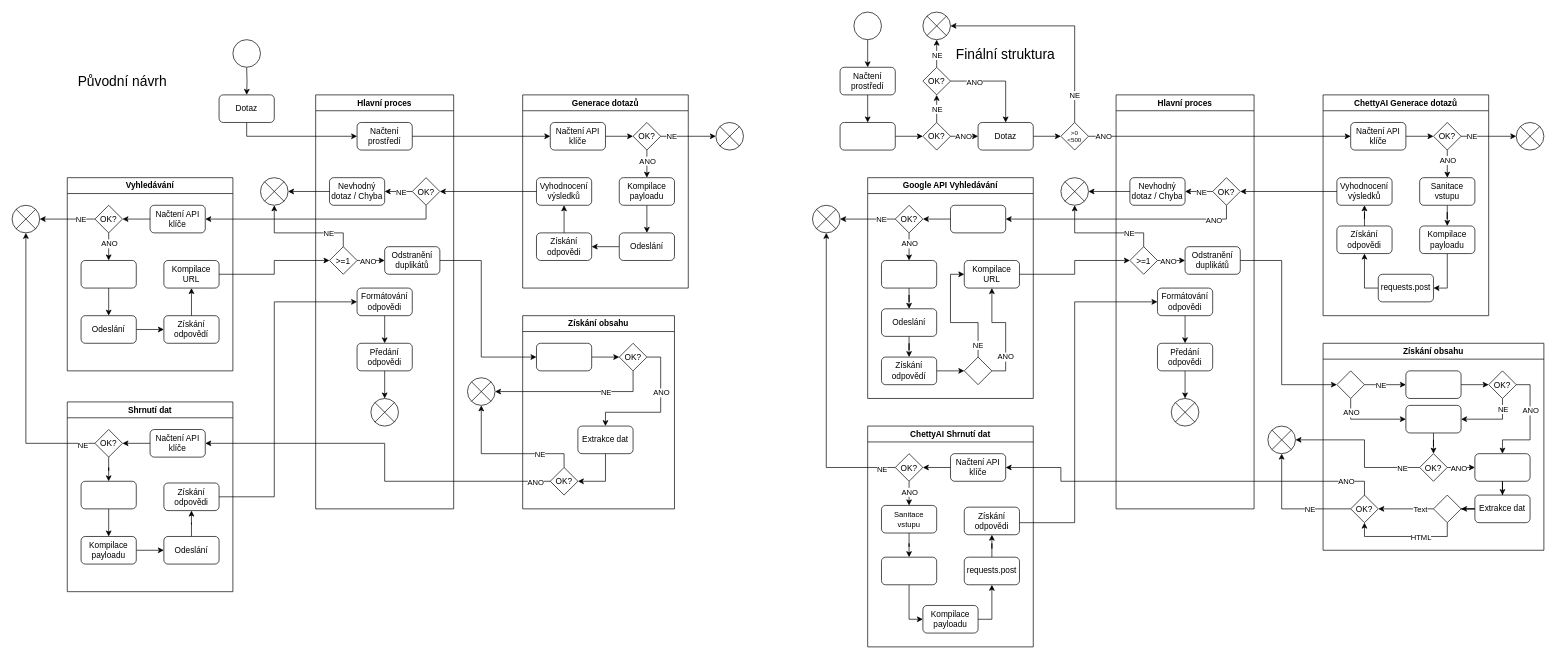
This 1556x659 diagram has some shape labels left out. The shapes that lost their labels are listed below. From the top down, each one's centre as x and y in pixels, then its label:
At point (867, 136): "Příprava kontejneru".
At point (978, 219): "Načtení API klíče / Engine ID".
At point (108, 274): "Založení požadavku".
At point (909, 274): "Založení service".
At point (564, 357): "Stažení".
At point (978, 370): "PDF?".
At point (1350, 384): "Selenium".
At point (1433, 384): "Requests stažení".
At point (1433, 419): "Selenium stažení".
At point (1502, 467): "Sanitace HTML/PDF".
At point (108, 495): "Formátování dat".
At point (1447, 508): "Režim".
At point (909, 570): "Sanitace a formátování dat".
